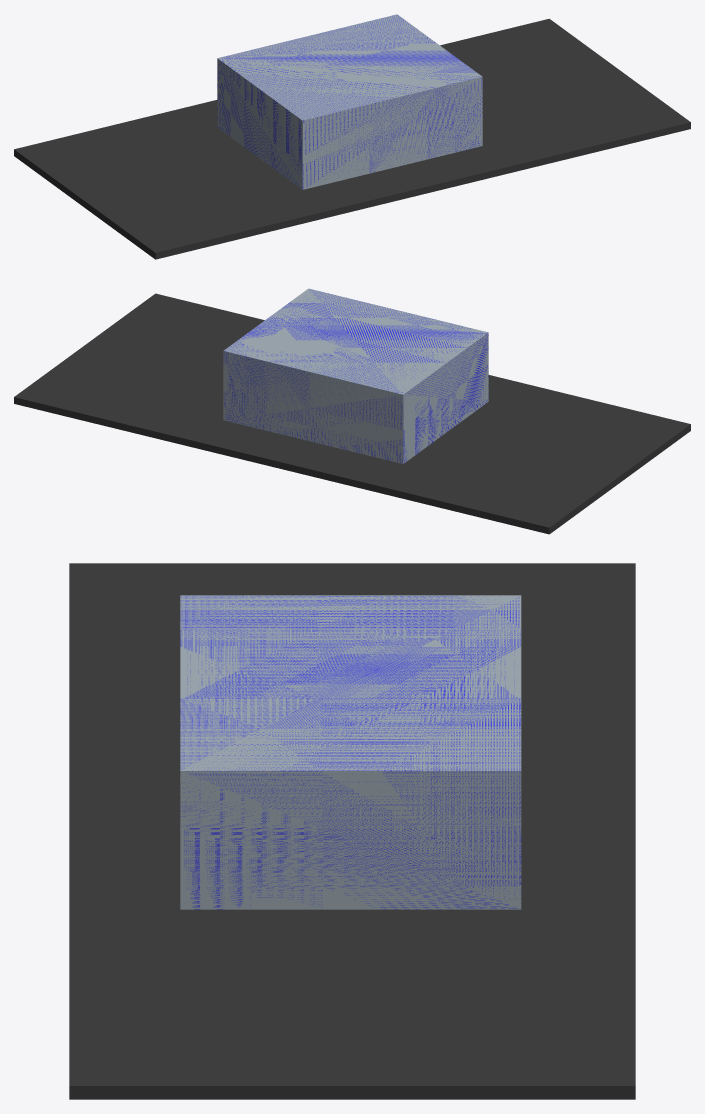
The model's file is tote_pickupplate_final.fbx.
3 renders of one model, top to bottom at view 1: azimuth 30°, elevation 25°; view 2: azimuth 150°, elevation 25°; view 3: azimuth 270°, elevation 25°, orthographic. The views are drawn at different scales.
Parts seen in each view (by area): view 1: Group1, Model; view 2: Group1, Model; view 3: Group1, Model.
Boxes of the visible parts, bbox=[...] form: Group1: bbox=[14, 18, 690, 259]; Model: bbox=[217, 14, 482, 189]; Group1: bbox=[14, 293, 690, 534]; Model: bbox=[223, 288, 488, 463]; Group1: bbox=[69, 563, 635, 1099]; Model: bbox=[180, 595, 521, 909].
Bounding box in the file's own units: 42.39 × 5.76 × 19.41.
